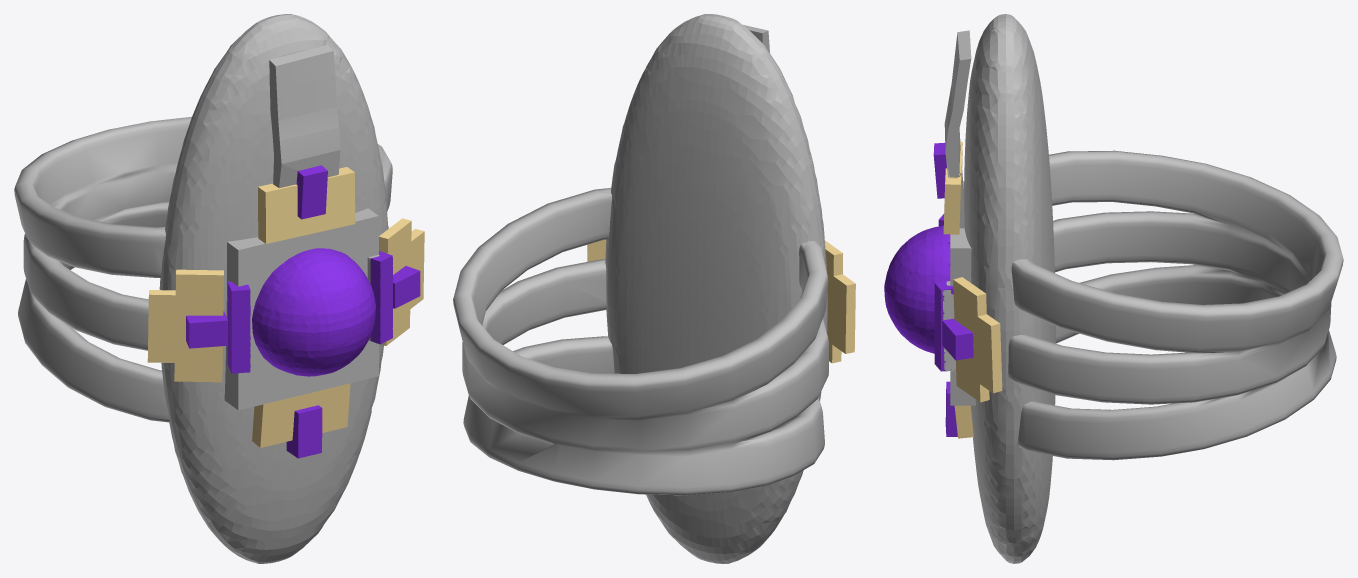
File: anillo.glb
3 views of the same model, side by side, from view 1: azimuth 30°, elevation 25°; view 2: azimuth 150°, elevation 25°; view 3: azimuth 270°, elevation 25° (orthographic).
Parts seen in each view (by area): view 1: anillo.001; view 2: anillo.001; view 3: anillo.001.
Boxes of the visible parts, bbox=[...] form: anillo.001: bbox=[14, 14, 424, 563]; anillo.001: bbox=[453, 14, 855, 563]; anillo.001: bbox=[884, 14, 1343, 563].
Size of the model in its own units: 0.0279 by 0.0451 by 0.0349.
Materials: 3 (1 with a texture image).
